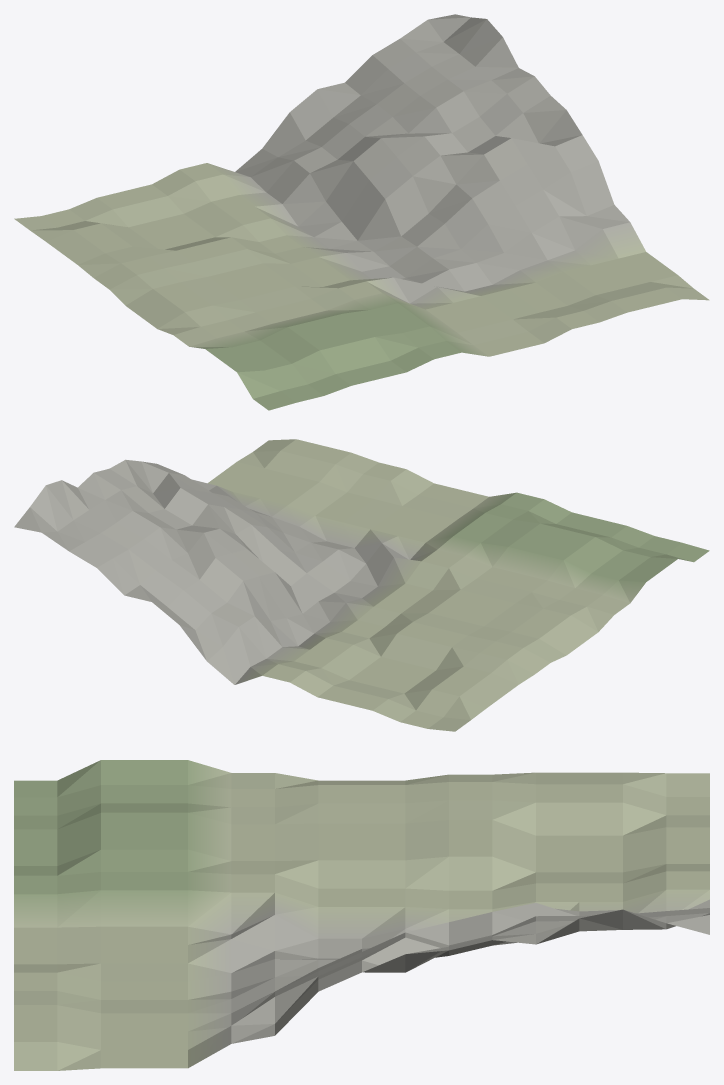
3 renders of one model, top to bottom at view 1: azimuth 30°, elevation 25°; view 2: azimuth 150°, elevation 25°; view 3: azimuth 270°, elevation 25°, orthographic. The views are drawn at different scales.
Bounding box in the file's own units: 32 × 9.04 × 32.
